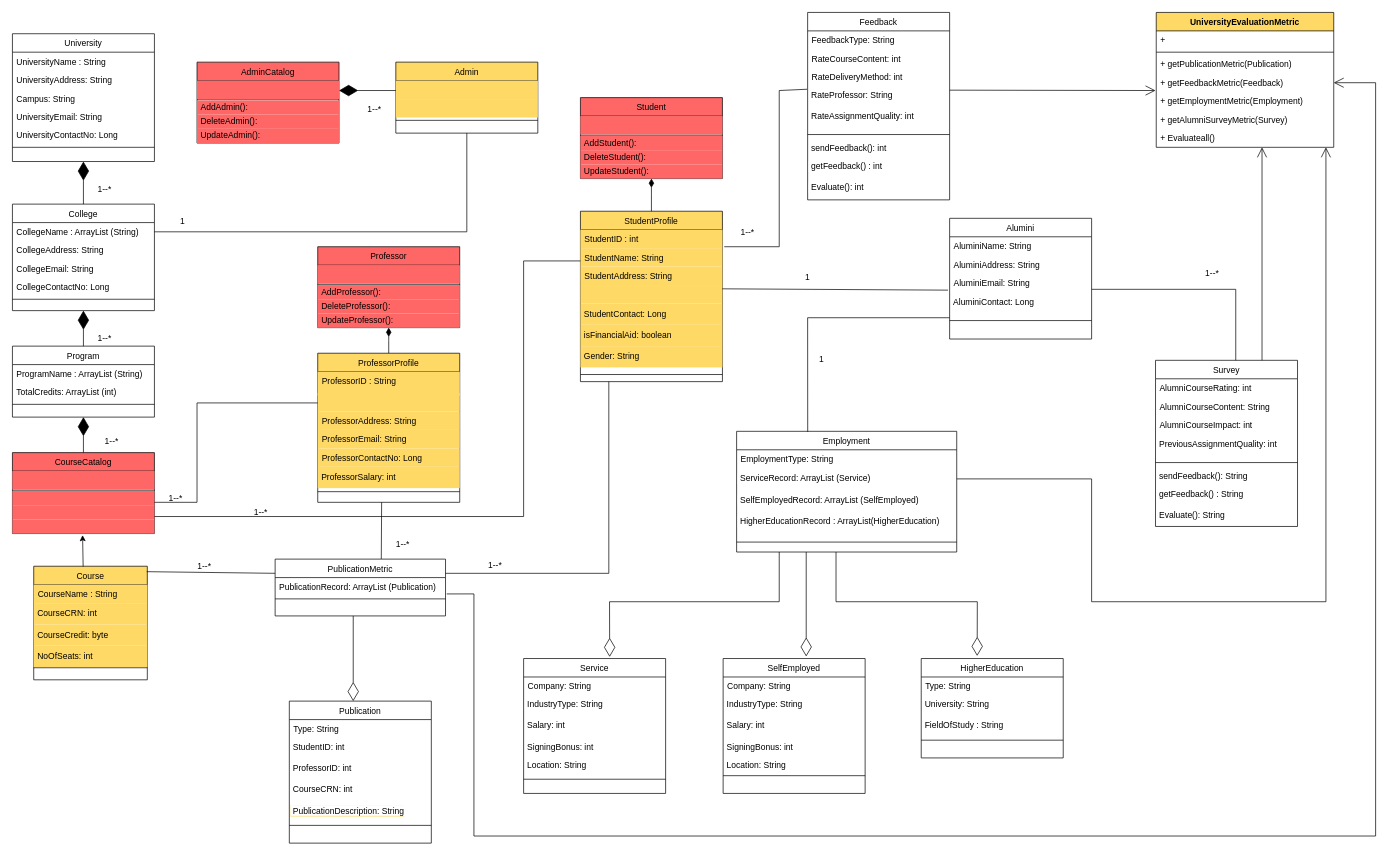
Some shapes in this 1398 by 858 pixel diagram are drawn without their labels. The shapes that lost their labels are listed below. From the top down, each one's centre as x and y in pixels, then its label:
At (268,89): "AdminList : ArrayList (Admin)".
At (466,89): "AdminUserID : String".
At (466,108): "AdminPassword: String".
At (651,125): "StudentList : ArrayList (Professor)".
At (388,274): "ProfessorList : ArrayList (Professor)".
At (651,294): "StudentEmail: Long".
At (388,402): "ProfessorName : String".
At (83,480): "CourseList : ArrayList (Course)".
At (83,498): "AddCourse():".
At (83,512): "DeleteCourse():".
At (83,526): "UpdateCourse():".
